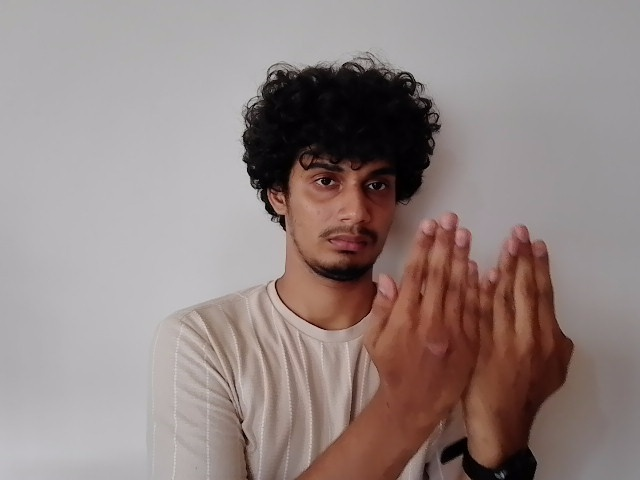school: (365, 208, 573, 427)
